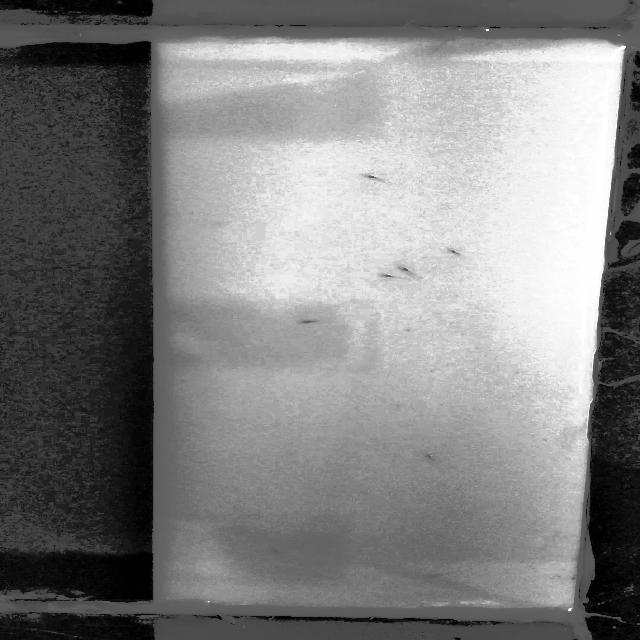shrimp: (423, 568, 448, 582), (420, 450, 440, 464), (379, 271, 403, 282), (296, 316, 318, 328), (443, 246, 464, 258), (398, 265, 418, 277), (264, 544, 283, 556), (362, 173, 379, 183)
